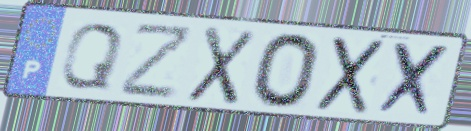O: (249, 31, 323, 111)
Q: (56, 20, 127, 92)
X: (375, 39, 455, 121), (311, 34, 390, 117), (183, 24, 260, 108)
Z: (117, 23, 197, 101)
